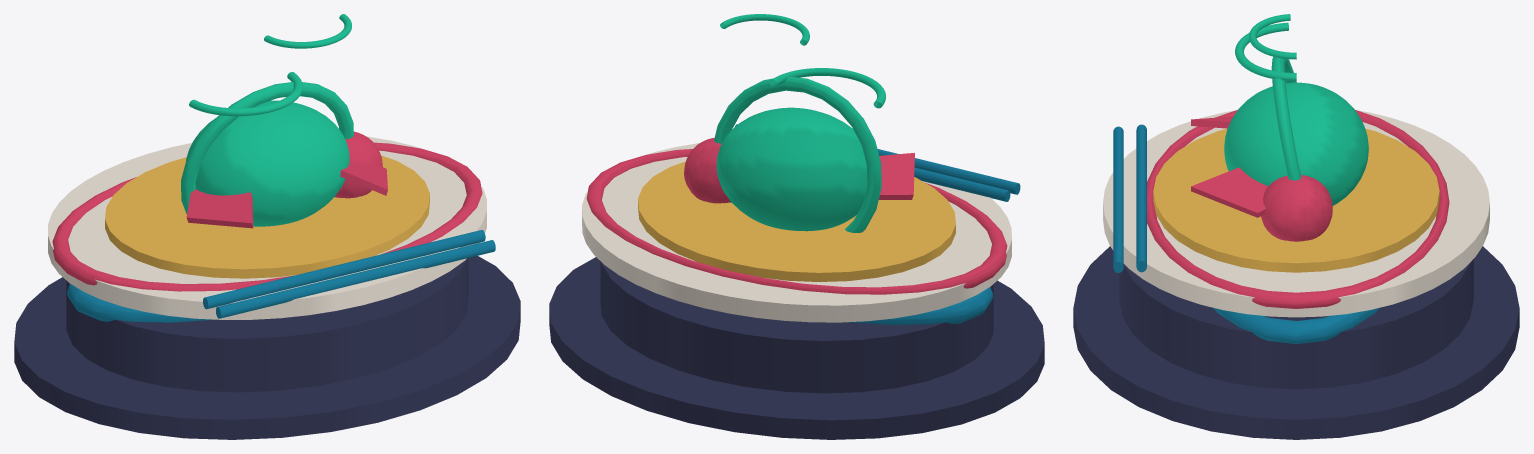
File: 0340_揭秘食物图鉴_西餐餐刀.glb
The picture shows the model from 3 angles, left to right: view 1: azimuth 30°, elevation 25°; view 2: azimuth 150°, elevation 25°; view 3: azimuth 270°, elevation 25°; orthographic projection. The views are drawn at different scales.
Visible parts, largest first — view 1: card_0340; view 2: card_0340; view 3: card_0340.
Part boxes in pixels (<box>): card_0340: <box>14,14,520,439</box>; card_0340: <box>549,14,1044,439</box>; card_0340: <box>1073,14,1519,439</box>.
Bounding box in the file's own units: 1.54 × 1 × 1.3.
